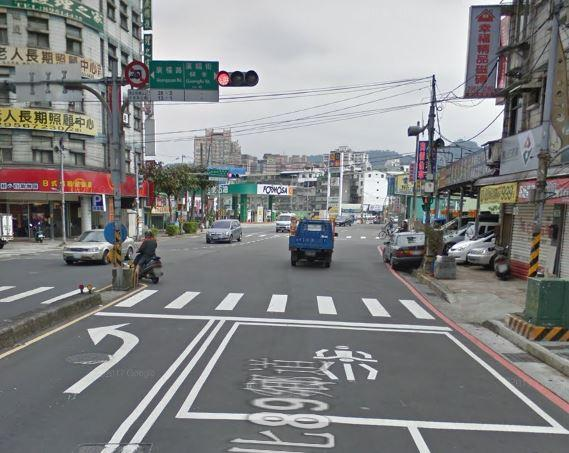red_traffic_light: (216, 69, 258, 88)
